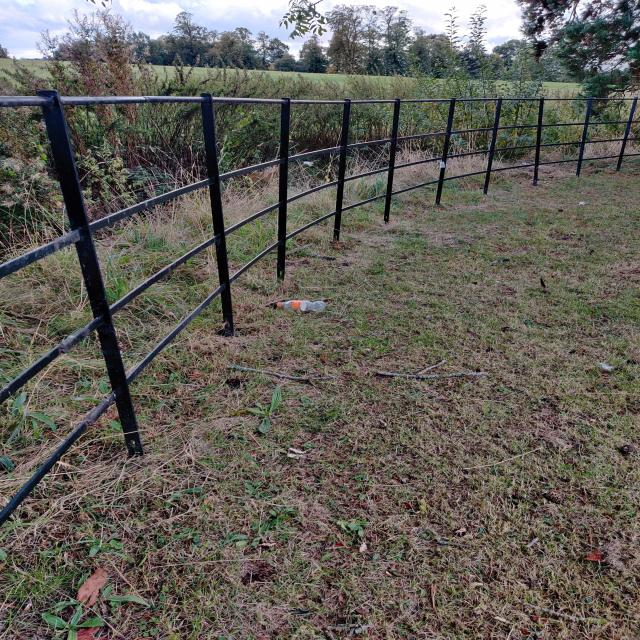litter: (276, 301, 327, 312), (304, 162, 313, 166)
